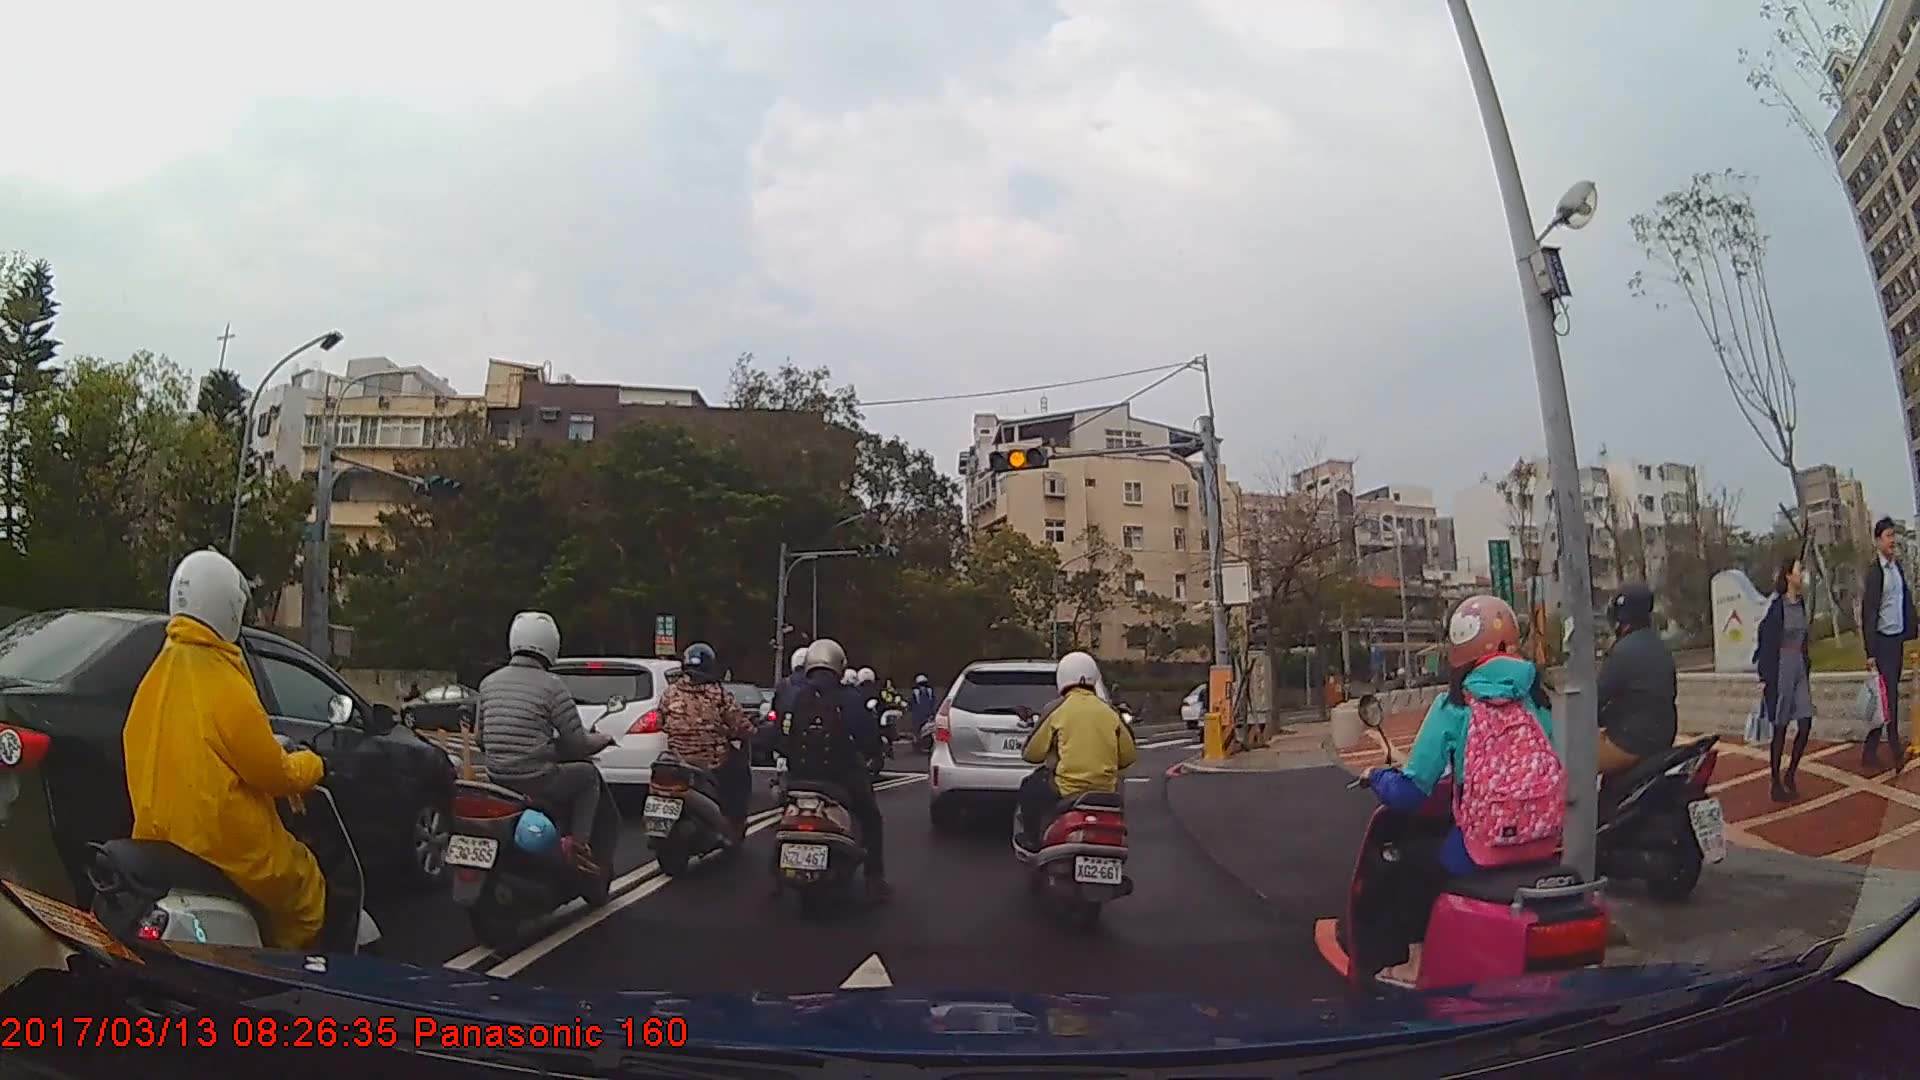pedestrian: (1754, 560, 1825, 805), (1858, 515, 1913, 783)
rider: (86, 545, 386, 1007), (1346, 598, 1599, 1019), (447, 607, 619, 952), (1521, 588, 1704, 905), (768, 637, 896, 923), (1011, 648, 1138, 929), (638, 642, 764, 877)
vehicle: (0, 606, 461, 937), (518, 657, 753, 817), (922, 660, 1125, 832), (397, 683, 498, 731)
